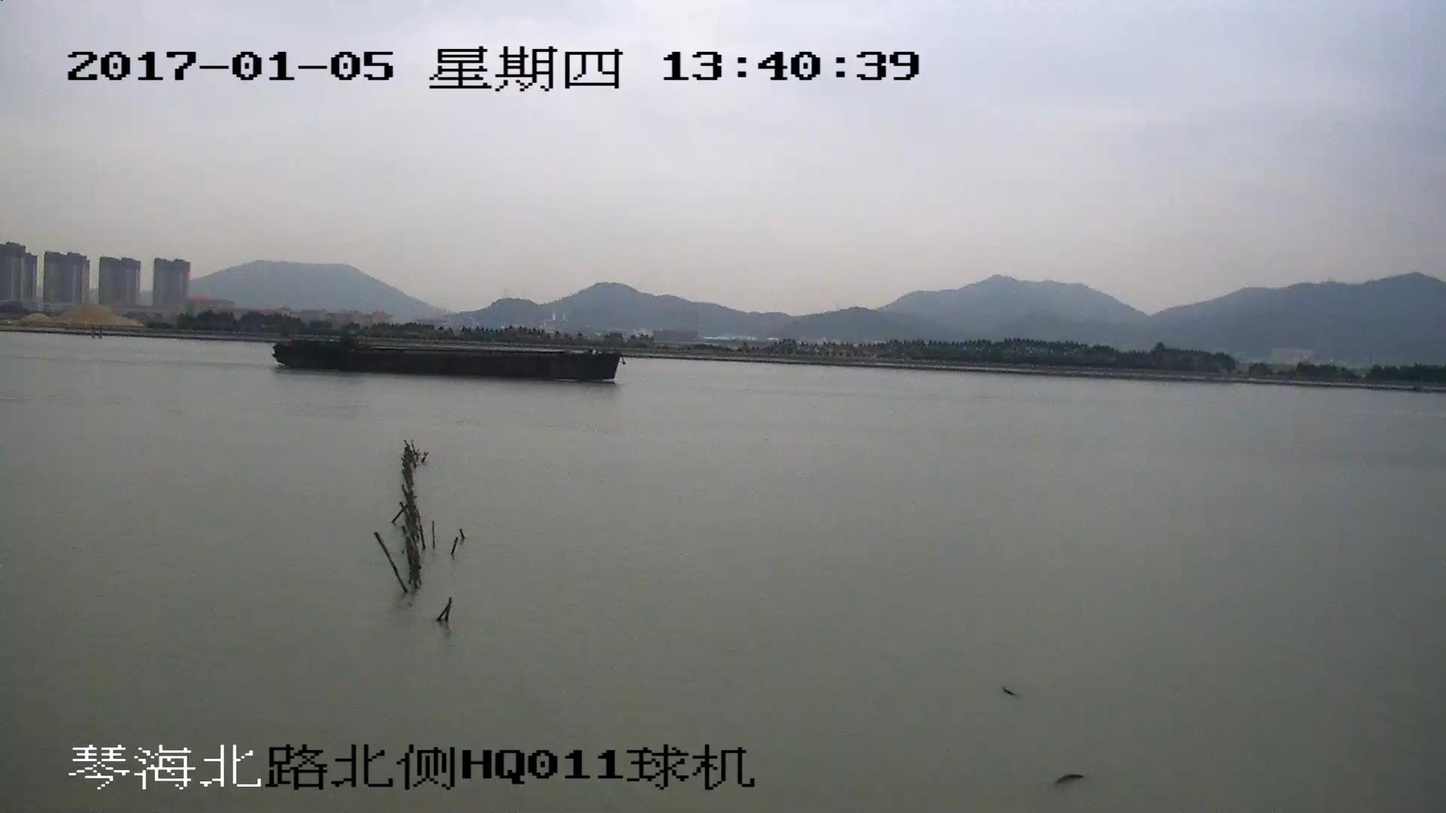bulk cargo carrier: (274, 332, 623, 382)
